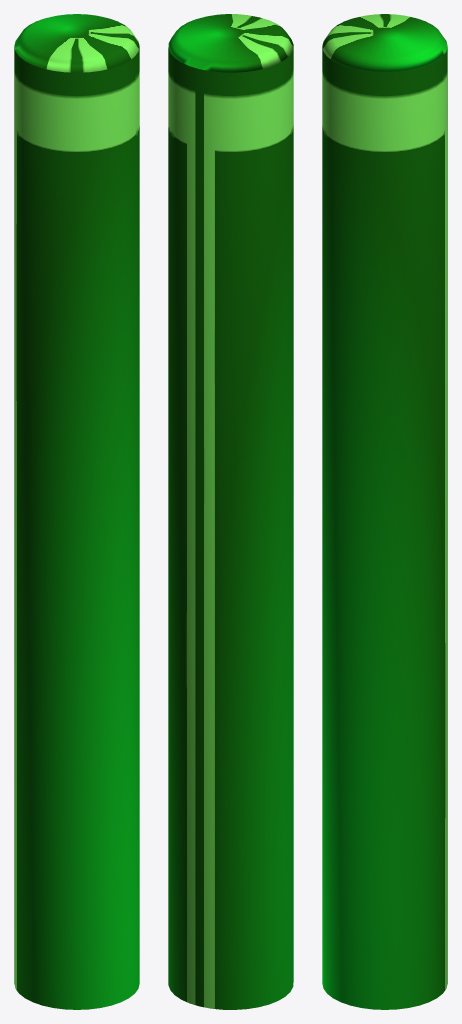
File: NewRod.fbx
3 renders of one model, left to right at view 1: azimuth 90°, elevation 25°; view 2: azimuth 150°, elevation 25°; view 3: azimuth 270°, elevation 25°, orthographic.
Visible parts, largest first — view 1: Cylinder.051; view 2: Cylinder.051; view 3: Cylinder.051.
Part boxes in pixels (<box>): Cylinder.051: <box>14,14,139,1009</box>; Cylinder.051: <box>168,14,293,1009</box>; Cylinder.051: <box>322,14,447,1009</box>.
Size of the model in its own units: 37.44 by 313 by 37.44.
